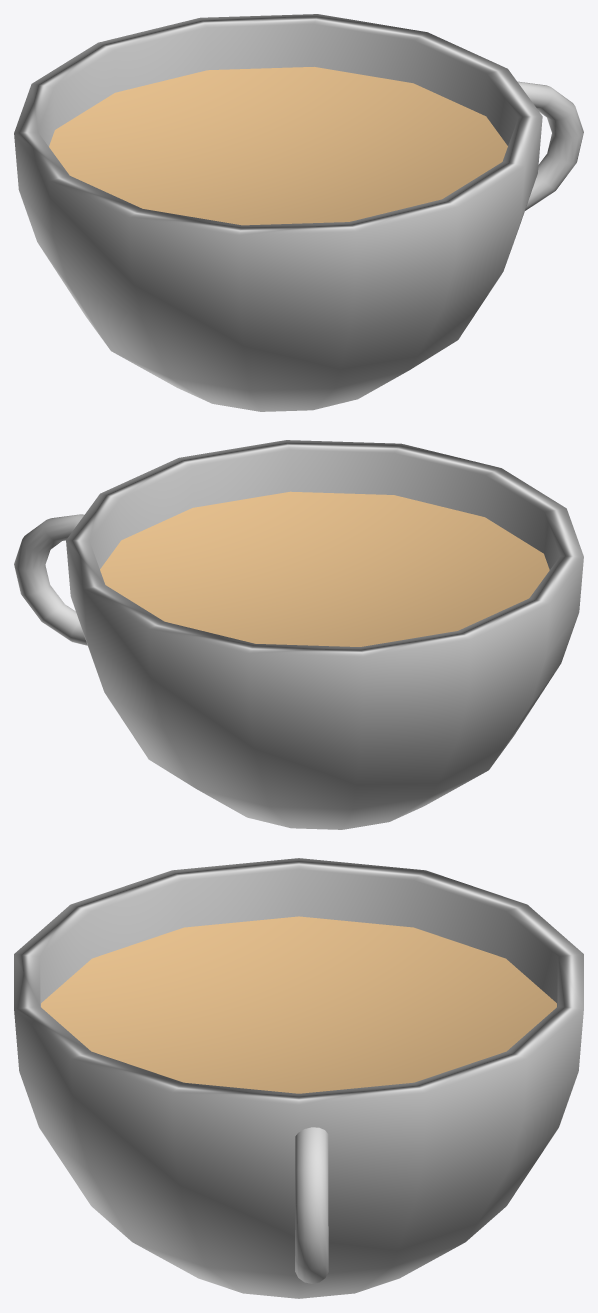
File: Tea.fbx
3 views of the same model, one above another, from view 1: azimuth 30°, elevation 25°; view 2: azimuth 150°, elevation 25°; view 3: azimuth 270°, elevation 25° (orthographic). The views are drawn at different scales.
Visible parts, largest first — view 1: English_and_herbal_tea:polySurface3; view 2: English_and_herbal_tea:polySurface3; view 3: English_and_herbal_tea:polySurface3.
Part boxes in pixels (x1,y1,x2,y2): English_and_herbal_tea:polySurface3: (14, 14, 583, 411); English_and_herbal_tea:polySurface3: (14, 440, 583, 829); English_and_herbal_tea:polySurface3: (14, 858, 583, 1298).
Size of the model in its own units: 32.34 by 15.25 by 26.85.
